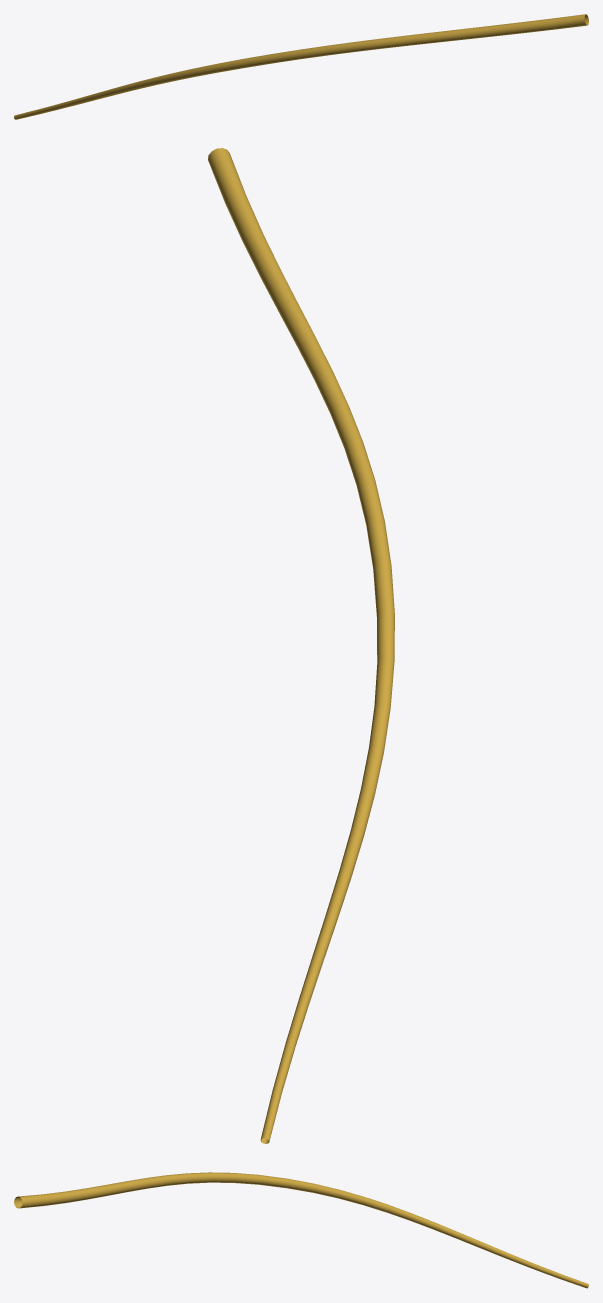
3 renders of one model, top to bottom at view 1: azimuth 30°, elevation 25°; view 2: azimuth 150°, elevation 25°; view 3: azimuth 270°, elevation 25°, orthographic. The views are drawn at different scales.
Visible parts, largest first — view 1: 右侧臂外侧下皮神经; view 2: 右侧臂外侧下皮神经; view 3: 右侧臂外侧下皮神经.
Boxes of the visible parts, x1,y1,x2,y2 form: 右侧臂外侧下皮神经: [14, 14, 588, 119]; 右侧臂外侧下皮神经: [208, 148, 394, 1143]; 右侧臂外侧下皮神经: [14, 1172, 588, 1288].
Bounding box in the file's own units: 0.0443 × 0.0325 × 0.07.
